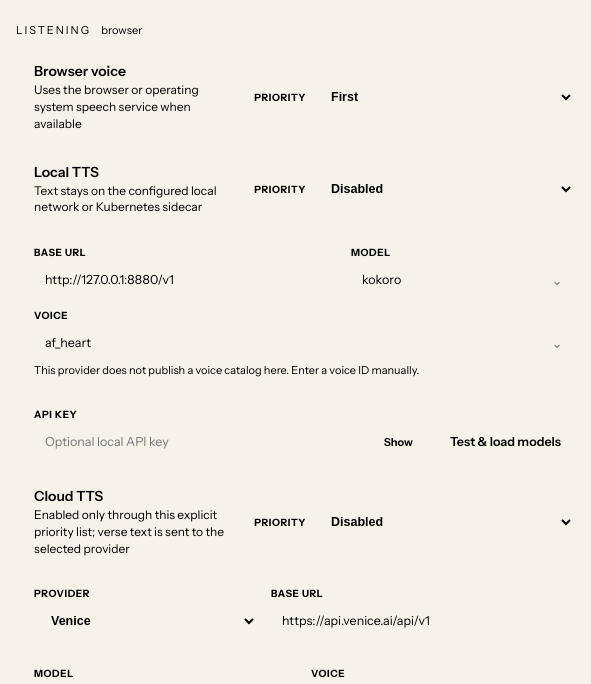
it: Settings provider controls › searches and selects discovered cloud voices while local voices remain manual
The image size is (591, 684).
(page scrolled)
expect the element with id "tts-local-voice" shows "Enter a voice ID manually": met, box [34, 363, 419, 377]
Replace the text in the dropdown with id "tts-local-voice" with "local-custom" at (304, 343), box [34, 327, 574, 358]
(page scrolled)
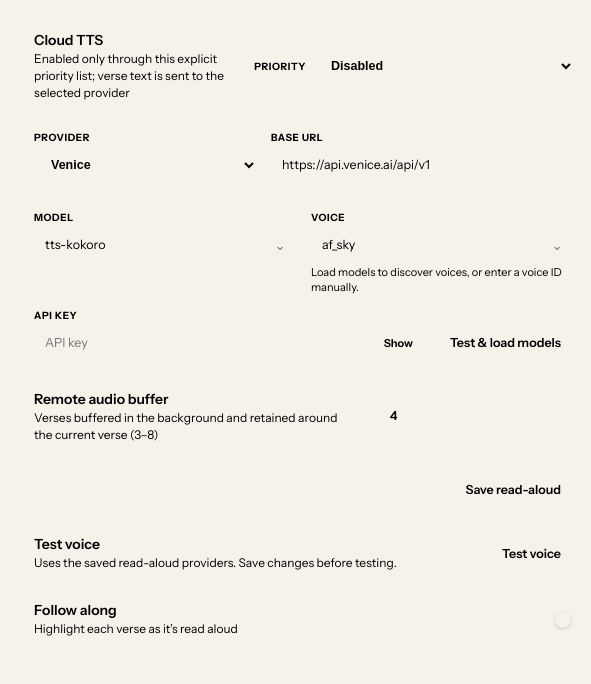
Click the button with id "tts-cloud-discovery".
click(505, 343)  # box [437, 327, 574, 358]
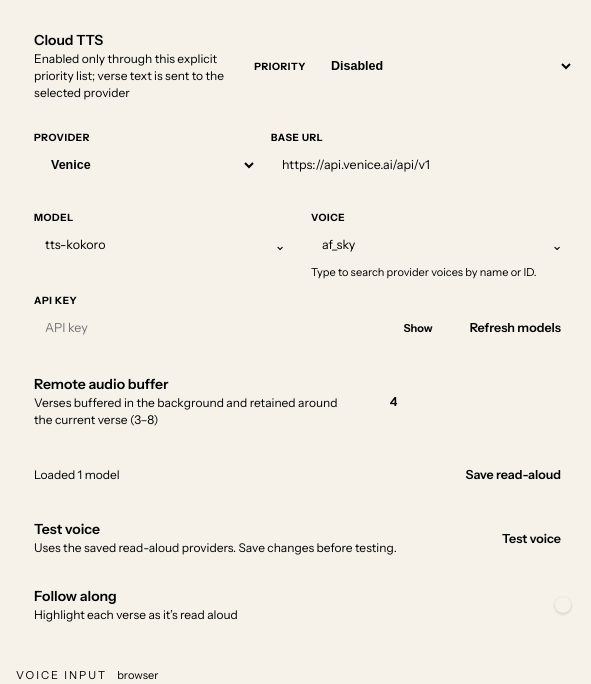
expect the element with id "tts-cloud-voice" shows "search provider voices by name or ID": met, box [311, 265, 536, 279]
Replace the text in the dropdown with id "tts-cloud-voice" with "ADAM" at (442, 245), box [311, 229, 574, 260]
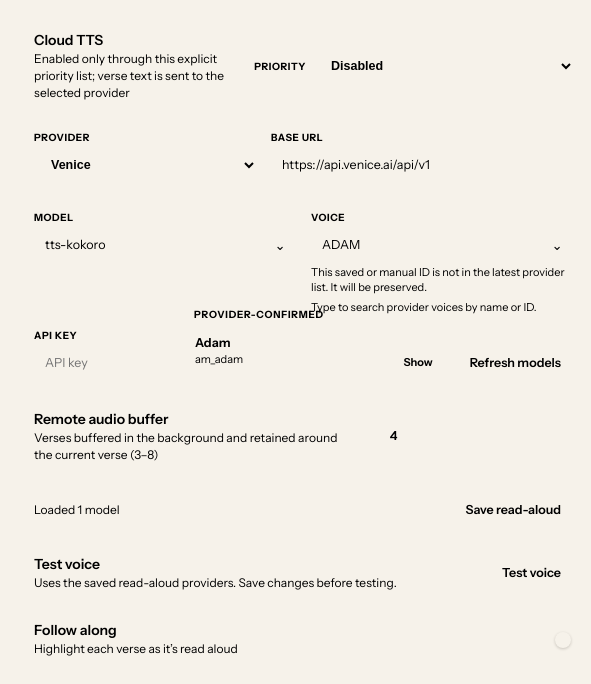
expect the option "Adam am_adam" is shown: met
expect the number of options is 1: met
Press the mouse on the option "Adam am_adam" at (213, 343), box [184, 326, 574, 375]
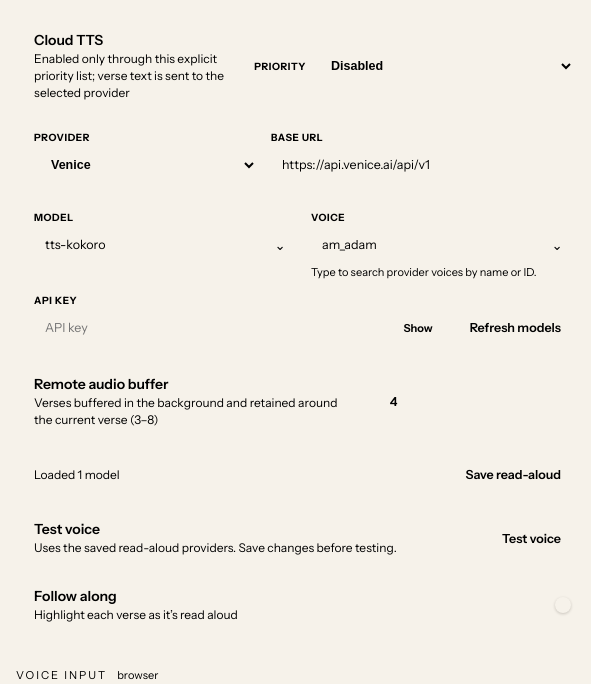
expect the dropdown with id "tts-cloud-voice" holds "am_adam": met, box [311, 229, 574, 260]
